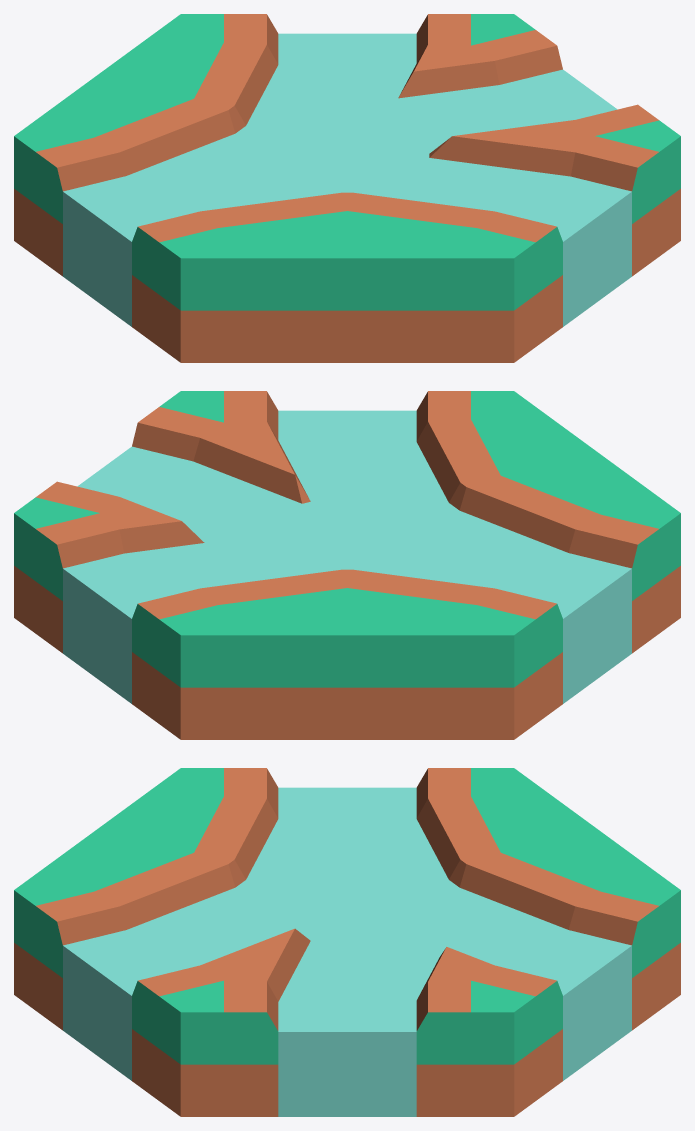
The model's file is river_intersectionD.fbx.
3 views of the same model, one above another, from view 1: azimuth 30°, elevation 25°; view 2: azimuth 150°, elevation 25°; view 3: azimuth 270°, elevation 25° (orthographic).
Visible parts, largest first — view 1: river_intersectionD; view 2: river_intersectionD; view 3: river_intersectionD.
Part boxes in pixels (x1,y1,x2,y2): river_intersectionD: [14, 14, 680, 362]; river_intersectionD: [14, 391, 680, 739]; river_intersectionD: [14, 768, 680, 1116].
Bounding box in the file's own units: 10 × 2 × 11.55.
